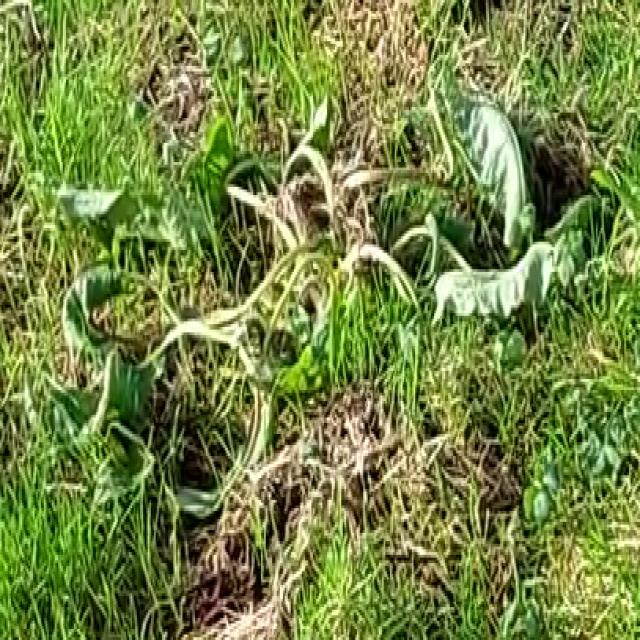organic waste: (33, 77, 591, 516)
